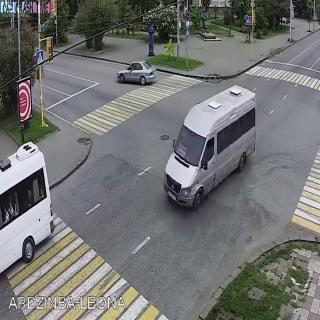Vehicle-Crash_Detected: (96, 66, 289, 248)
